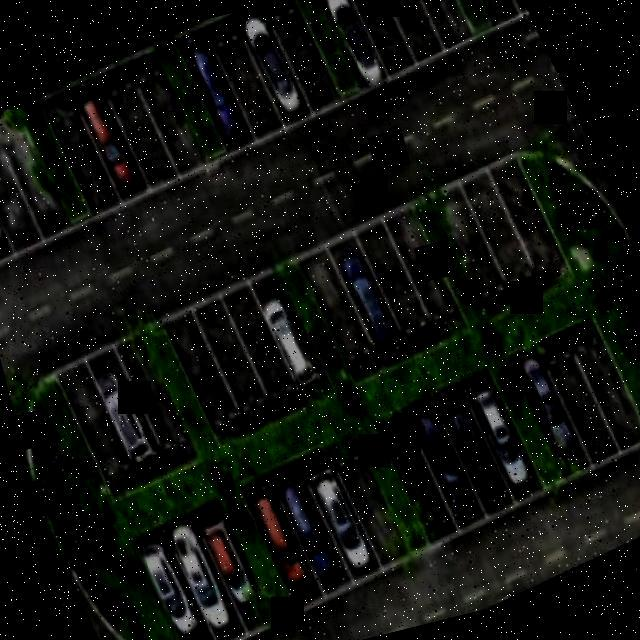car: (131, 521, 210, 640), (306, 458, 374, 580), (439, 384, 507, 500), (164, 511, 230, 627), (262, 284, 332, 393), (92, 354, 160, 466), (180, 35, 246, 142), (202, 510, 268, 612), (414, 399, 474, 507), (472, 384, 534, 487), (82, 92, 142, 190), (246, 22, 304, 120), (342, 246, 398, 346), (252, 488, 307, 588), (324, 0, 387, 81), (282, 490, 334, 572), (0, 145, 15, 261)
free: (496, 168, 568, 276), (226, 284, 285, 382), (384, 420, 441, 521), (68, 379, 129, 473), (126, 357, 186, 452), (0, 127, 59, 215), (340, 448, 393, 542), (226, 48, 282, 134), (371, 238, 422, 328), (442, 208, 496, 293), (314, 270, 363, 358), (583, 348, 633, 433), (180, 328, 231, 411), (208, 316, 258, 396), (478, 191, 528, 271), (54, 110, 104, 187), (118, 93, 168, 170), (398, 227, 446, 306), (150, 79, 196, 149), (556, 361, 600, 432), (280, 22, 324, 84), (358, 0, 404, 59), (0, 143, 28, 233), (391, 0, 433, 41), (413, 0, 459, 35)
